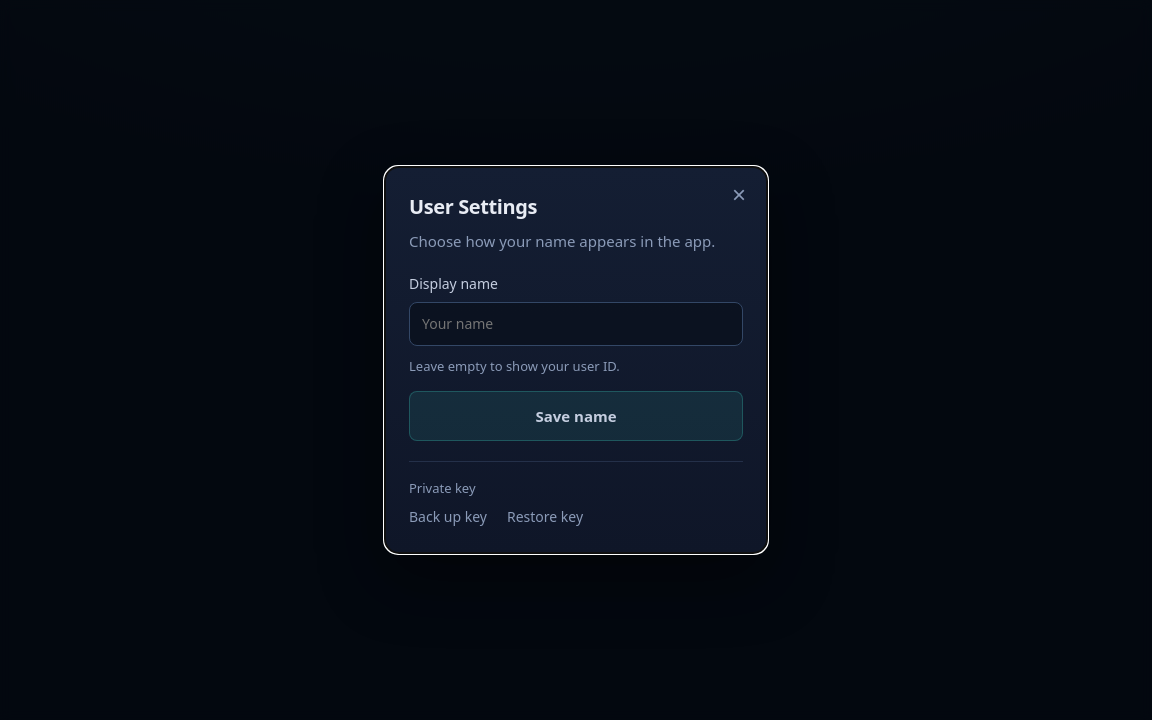
Test: EditNameDialog › shows error when save fails
This screenshot has width=1152, height=720.
Type "Alice" into the field labelled "Display name".
click(576, 324); type("Alice")  # box [409,302,743,346]
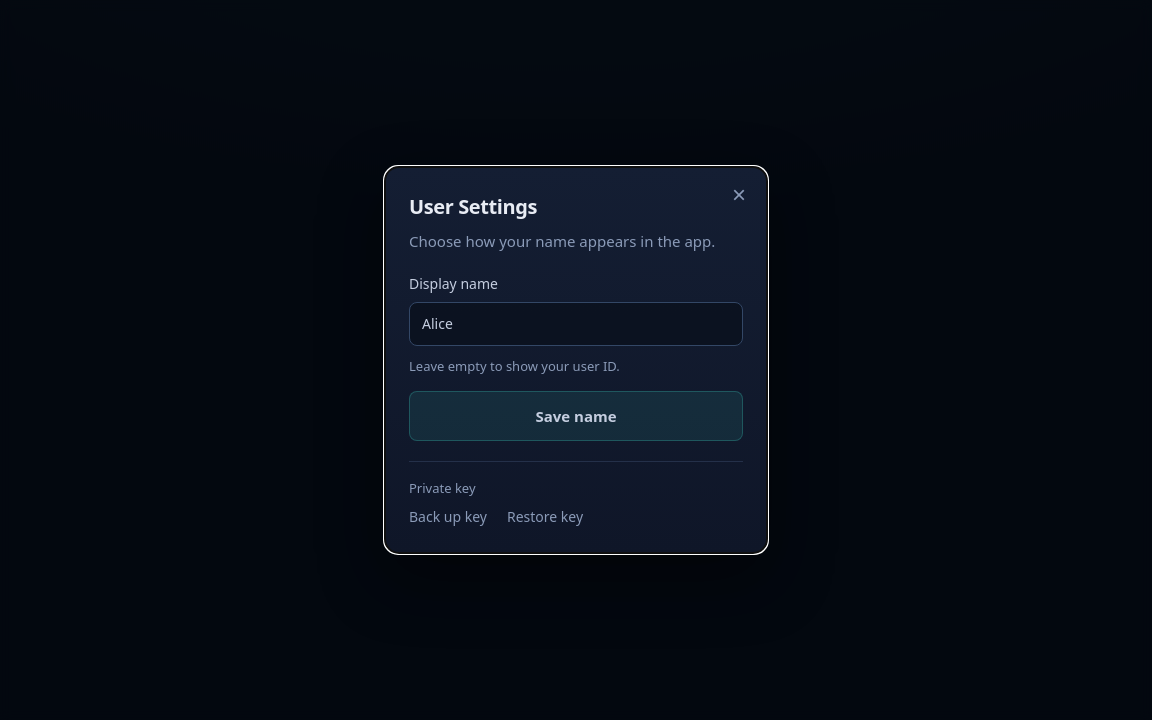
Click the button "Save name".
click(576, 416)  # box [409,391,743,441]
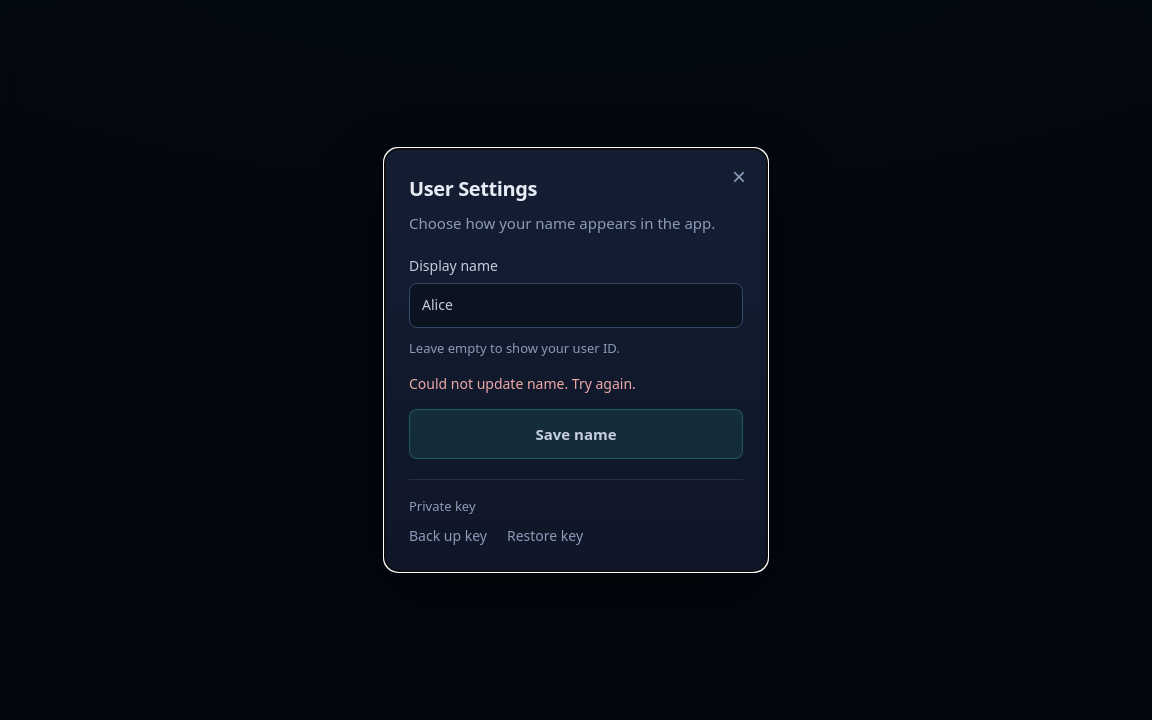
Check: the message reads "Could not update name. Try again.", box [409,374,636,392]
